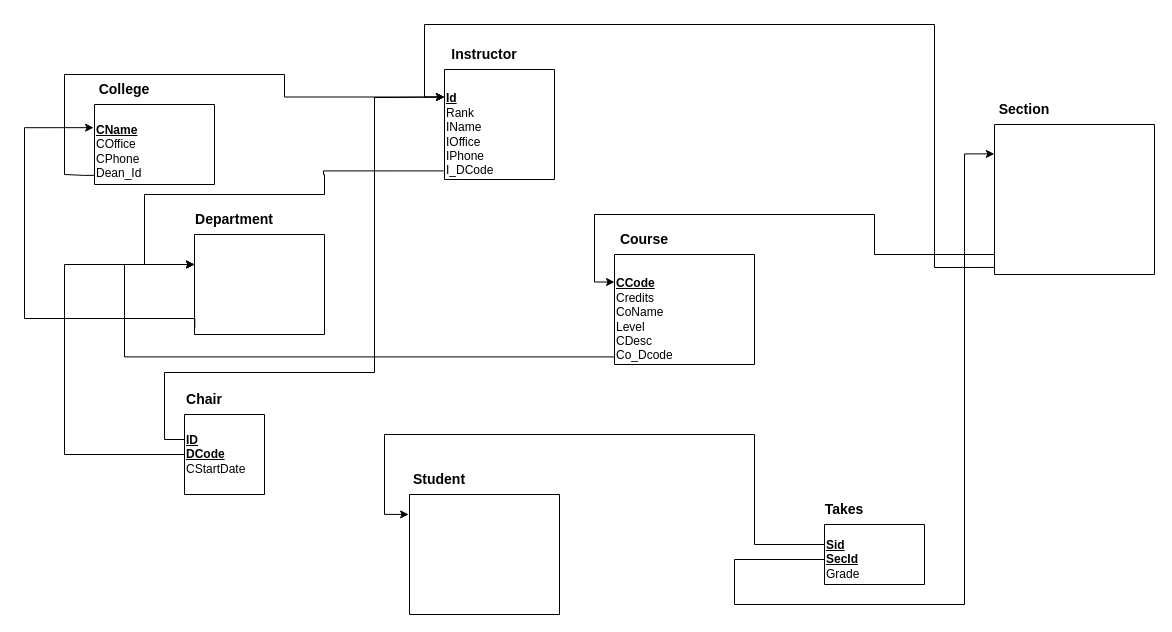
Image size: 1172x632. Some labels were removed from this diagram. The shapes that lost their labels are listed below. From the top down, each one's box as (x1, y1, x2, y2) in pixels, then its label:
(994, 124, 1154, 274): SecId SecNo Sem Year Blgd RoomNo DaysTime Sec_CCode Instructor_Id
(194, 234, 324, 334): DCode DName DOffice DPhone D_CName
(408, 494, 560, 614): Sid DOB SName Addr SPhone Major S_DCode
